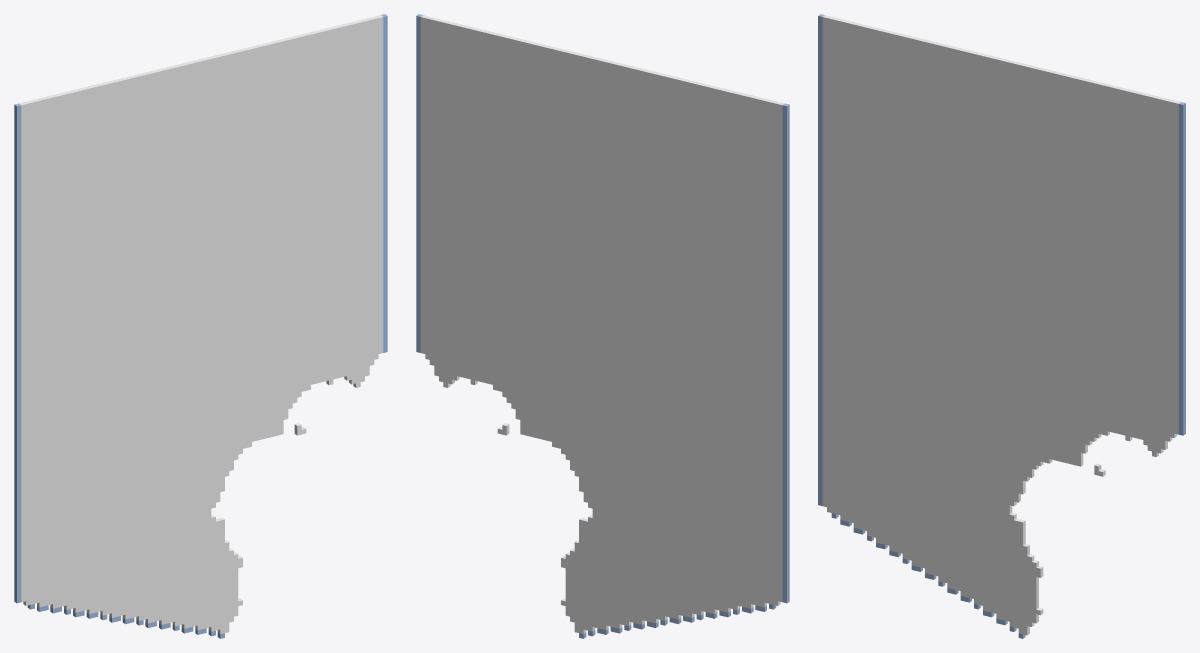
File: Fight_101_3_06_fx.obj
3 views of the same model, side by side, from view 1: azimuth 30°, elevation 25°; view 2: azimuth 150°, elevation 25°; view 3: azimuth 330°, elevation 25° (orthographic).
Size of the model in its own units: 8.2 by 12.3 by 0.1.
Materials: 1 (1 with a texture image).
